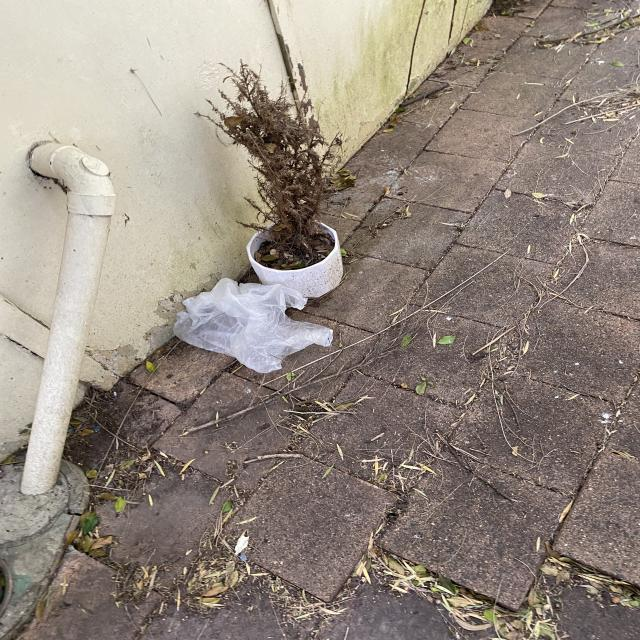bag: (171, 277, 334, 373)
